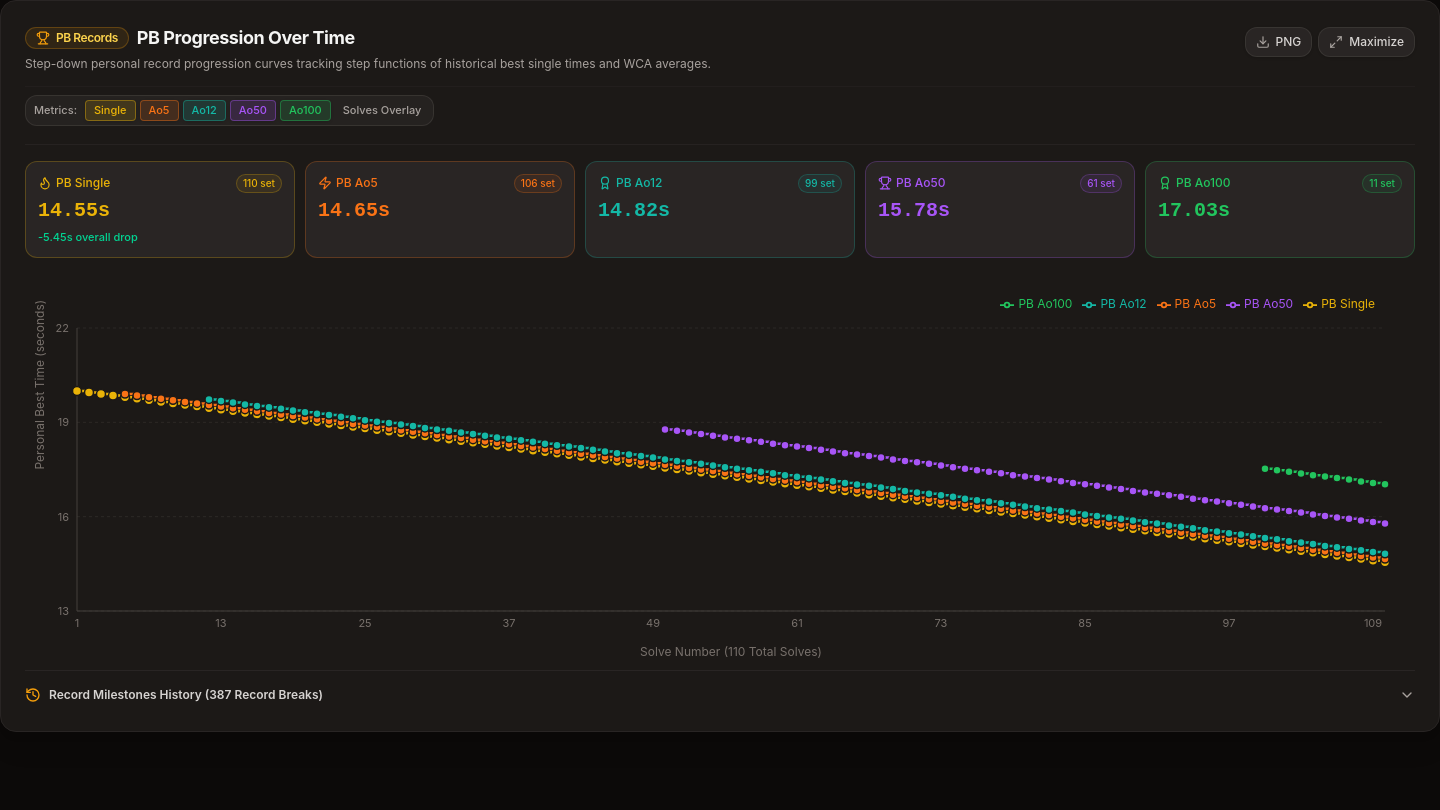
Test: PbProgressionChart component › renders milestone cards with flex-col sm:flex-row for mobile readability and max-h-60 scroll container
Click the button "Record Milestones History (387 Record Breaks)". click: (129, 695)
box: left=25, top=684, right=1415, bottom=708
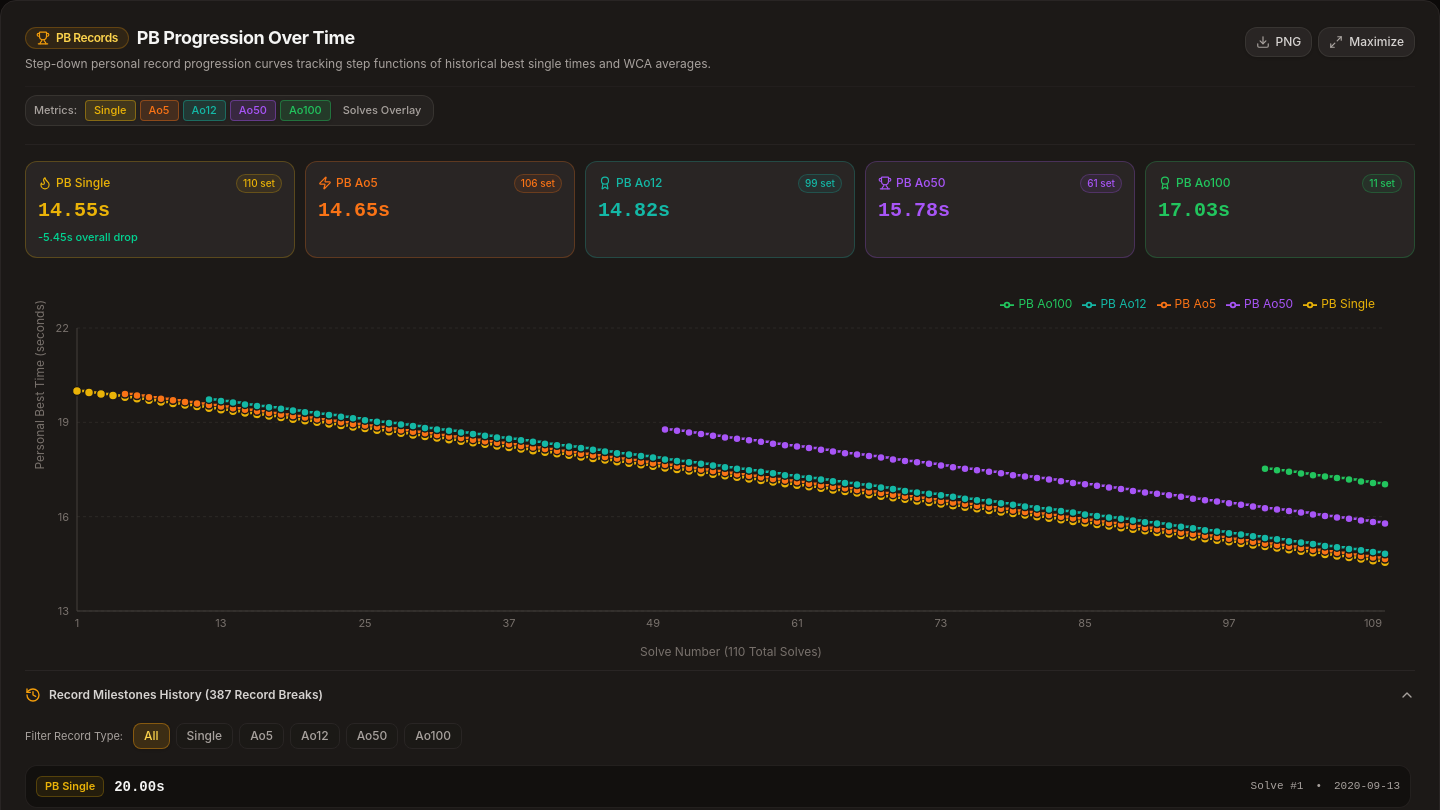
expect the element with class "flex-col" that starts with "Single" is shown: met, box left=25, top=766, right=1411, bottom=808
